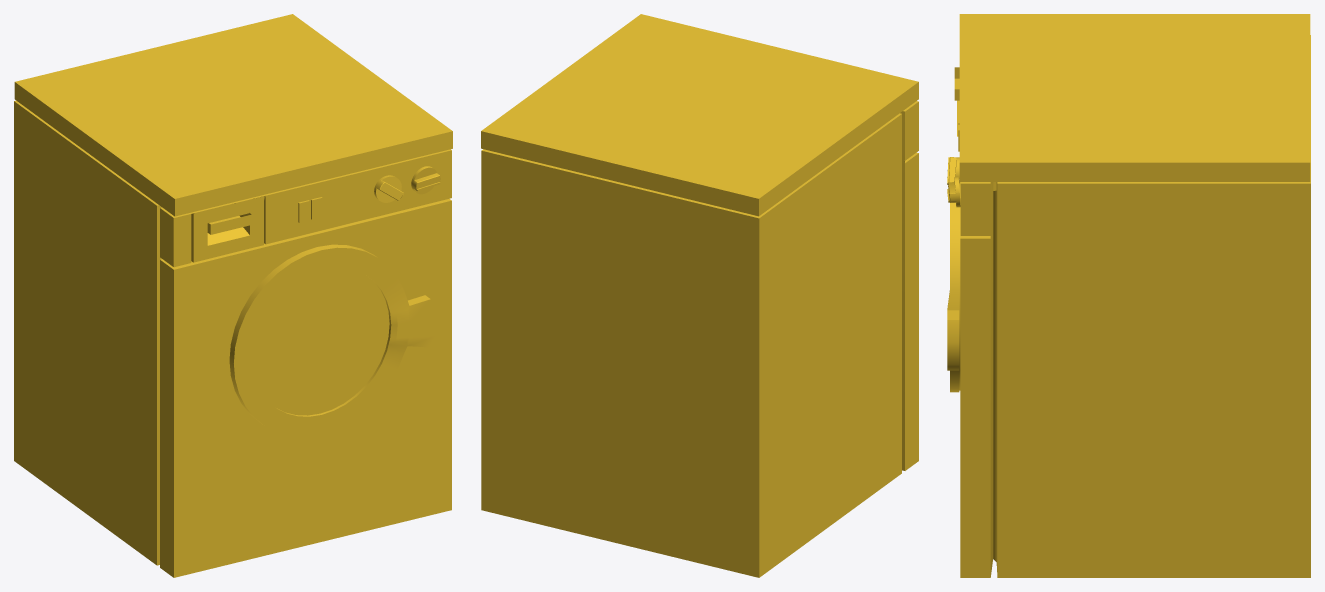
The model's file is Washing machine.fbx.
The picture shows the model from 3 angles, left to right: view 1: azimuth 30°, elevation 25°; view 2: azimuth 150°, elevation 25°; view 3: azimuth 270°, elevation 25°; orthographic projection. The views are drawn at different scales.
Visible parts, largest first — view 1: WashingMachine; view 2: WashingMachine; view 3: WashingMachine.
Part boxes in pixels (box(x1,y1,x2,y2)): WashingMachine: box(14, 14, 452, 577); WashingMachine: box(481, 14, 918, 577); WashingMachine: box(947, 14, 1310, 577).
Bounding box in the file's own units: 64.61 × 84.03 × 66.66.
